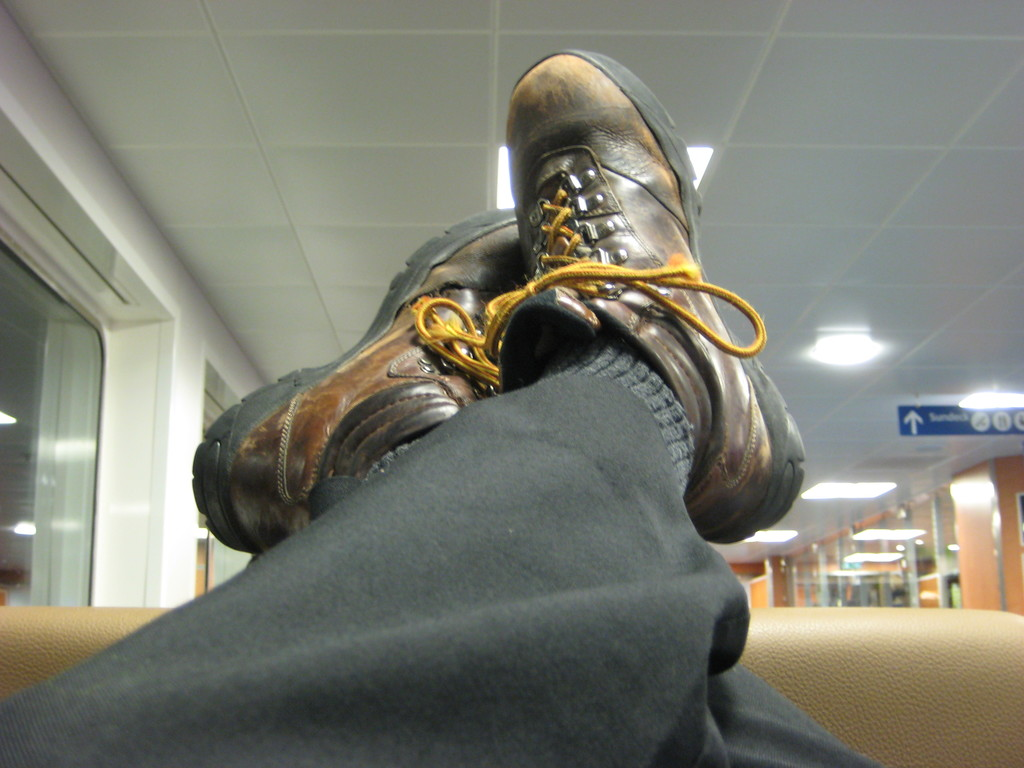Footwear: (474, 22, 769, 506), (187, 204, 525, 554)
